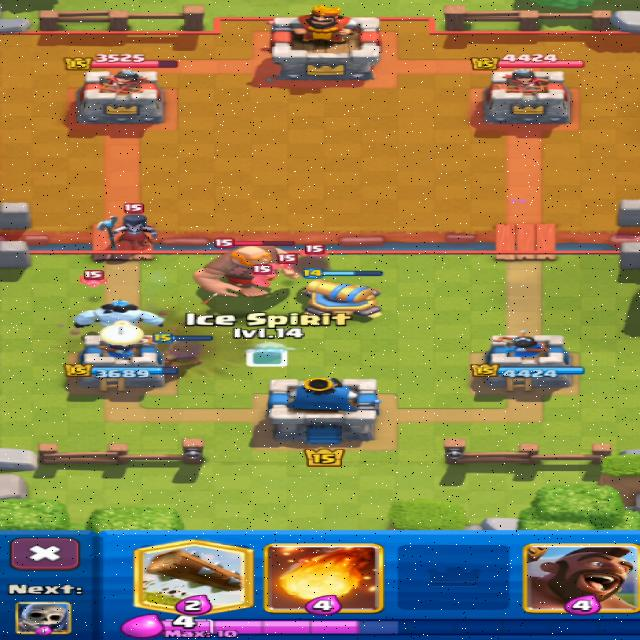Enemy-Bat: (253, 265, 284, 287), (272, 252, 298, 270), (80, 270, 107, 287)
Enemy-Giant: (195, 246, 283, 296)
Enemy-KingTower: (269, 6, 380, 81)
Enemy-NightWitch: (98, 204, 155, 249)
Enemy-PrincessTower: (483, 69, 569, 124), (77, 69, 163, 123)
Player-Cannon: (305, 279, 380, 316)
Player-IceGolem: (76, 300, 163, 328)
Player-KingTower: (268, 377, 379, 444)
Player-Musketeer: (165, 341, 201, 367)
Player-PrincessTower: (470, 330, 584, 399), (65, 335, 177, 390)
